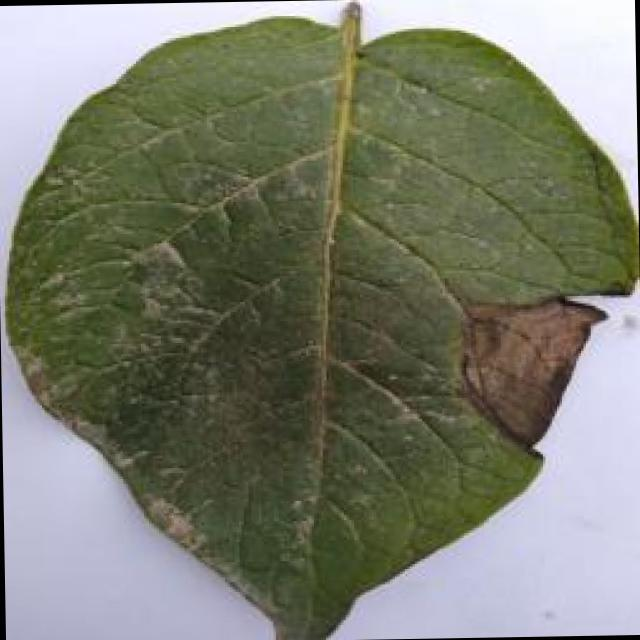Potato_Late_Blight: (14, 6, 640, 640)
